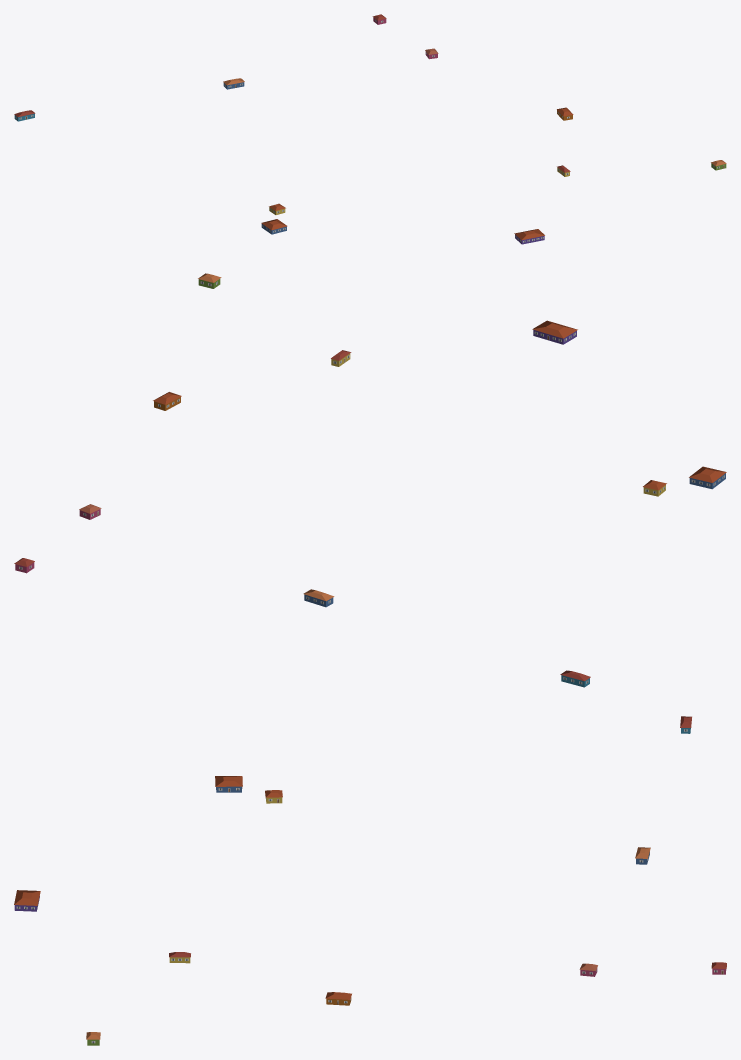
The model's file is msb_sannicolas_15_21.glb.
3 views of the same model, one above another, from view 1: azimuth 30°, elevation 25°; view 2: azimuth 150°, elevation 25°; view 3: azimuth 270°, elevation 25° (orthographic). The views are drawn at different scales.
Parts seen in each view (by area): view 1: msb_sannicolas_15_21_lod0; view 2: msb_sannicolas_15_21_lod0; view 3: msb_sannicolas_15_21_lod0.
Part boxes in pixels (x1,y1,x2,y2): msb_sannicolas_15_21_lod0: (14, 14, 726, 244); msb_sannicolas_15_21_lod0: (14, 273, 726, 687); msb_sannicolas_15_21_lod0: (14, 716, 726, 1045).
Size of what is drawn, in the model's own units: 389 by 9.06 by 367.
Materials: 2 (1 with a texture image).
